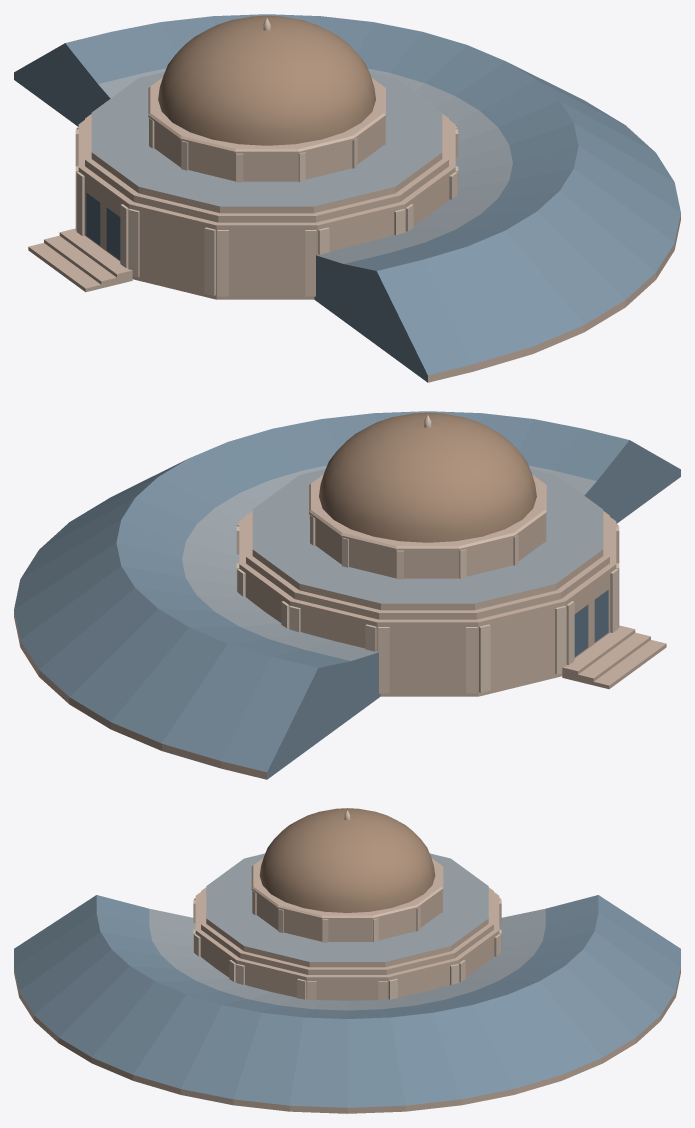
Rendered from chi-adler-planetarium.glb.
3 views of the same model, one above another, from view 1: azimuth 30°, elevation 25°; view 2: azimuth 150°, elevation 25°; view 3: azimuth 270°, elevation 25° (orthographic). The views are drawn at different scales.
Visible parts, largest first — view 1: Adler Planetarium; view 2: Adler Planetarium; view 3: Adler Planetarium.
Part boxes in pixels (box(x1,y1,x2,y2)): Adler Planetarium: box(14, 14, 680, 382); Adler Planetarium: box(14, 411, 680, 779); Adler Planetarium: box(14, 808, 680, 1113).
Size of the model in its own units: 80.1 by 27.15 by 101.
